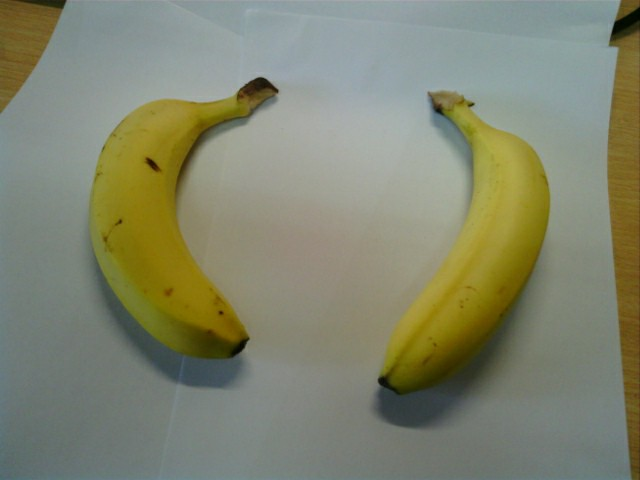fresh_banana: (380, 93, 553, 396)
normal_banana: (88, 75, 251, 360)
